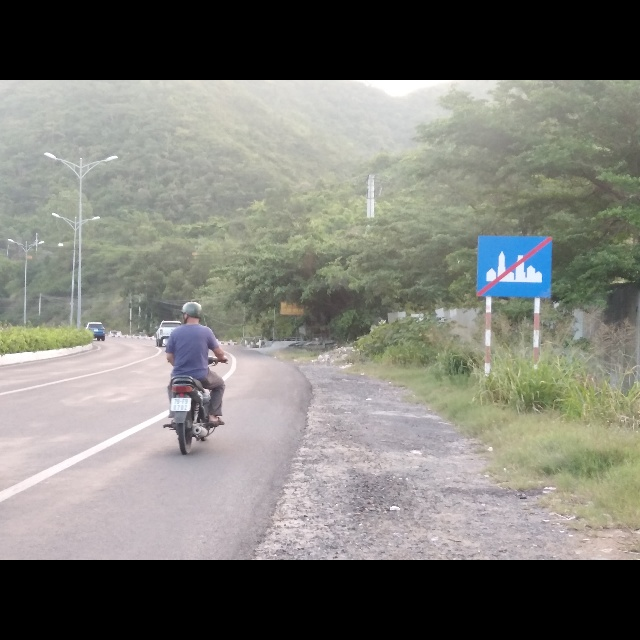Hết khu đông dân cư: (475, 232, 554, 299)
